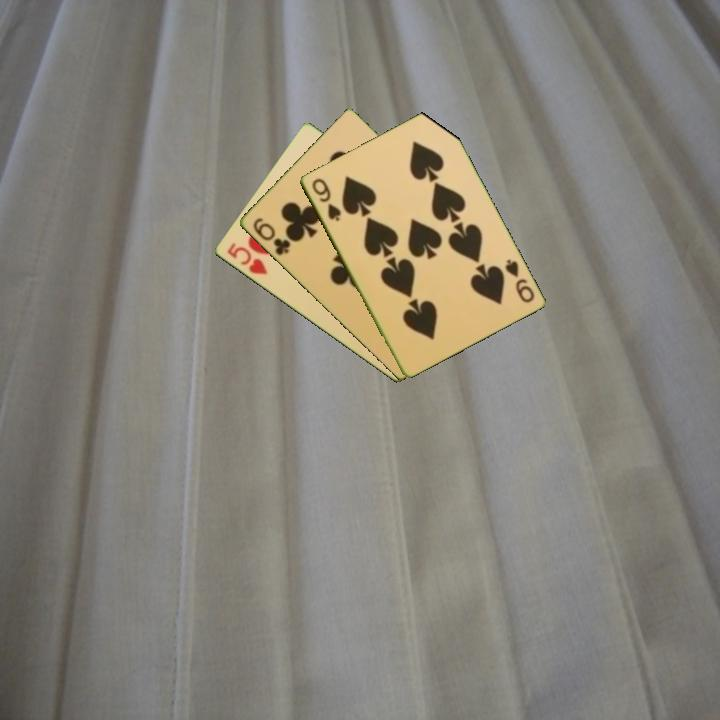5h: (223, 239, 270, 278)
6c: (249, 214, 293, 258)
9s: (501, 255, 537, 306), (308, 174, 344, 224)
